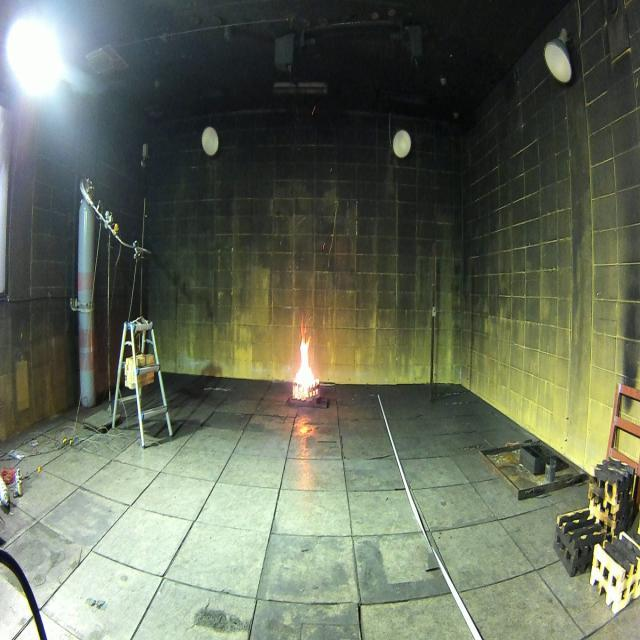Fire: (292, 316, 320, 401)
